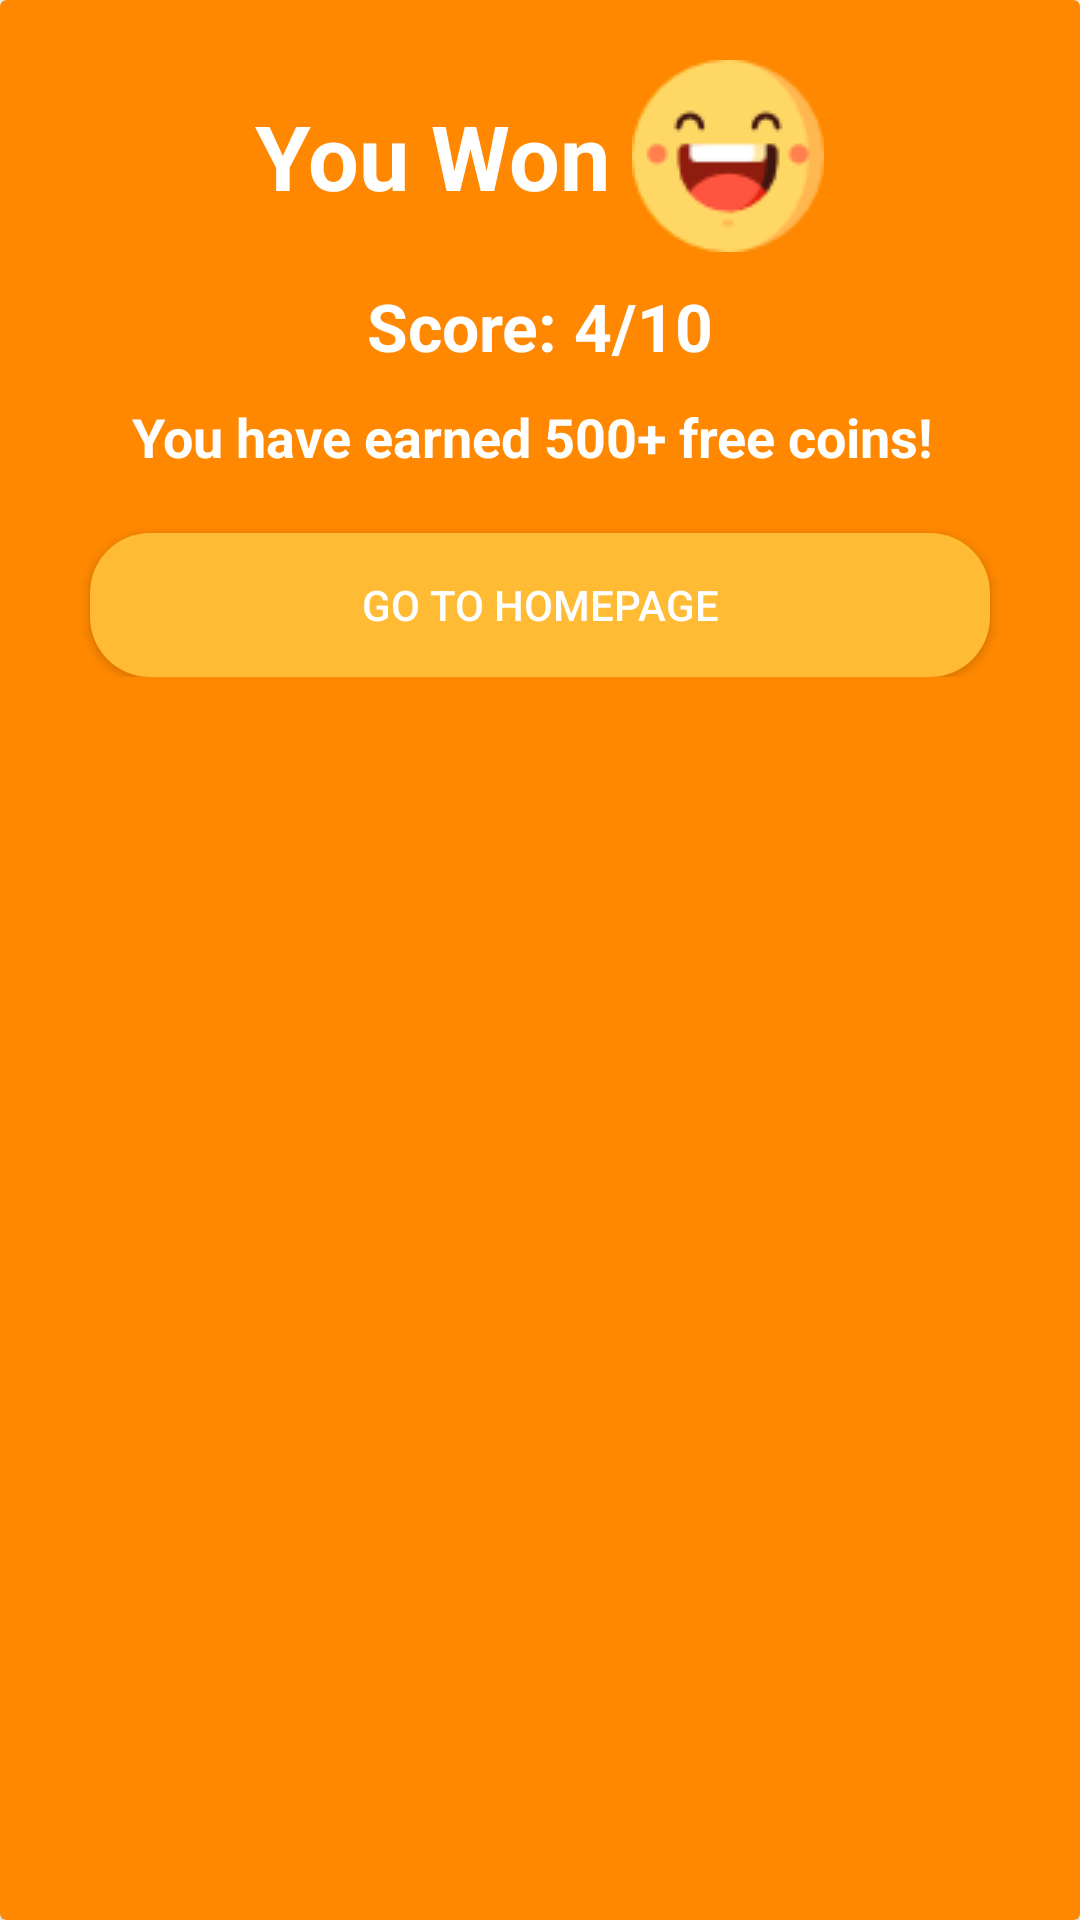

Where icons sit on this 1080*1920 app screen, as (x1, y1, x2, y2):
win: (632, 60, 824, 252)
